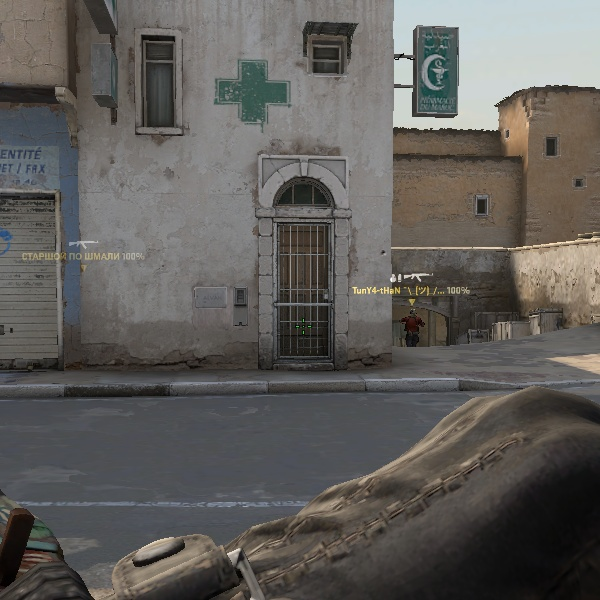t_body: (399, 307, 426, 348)
t_head: (407, 307, 419, 319)
